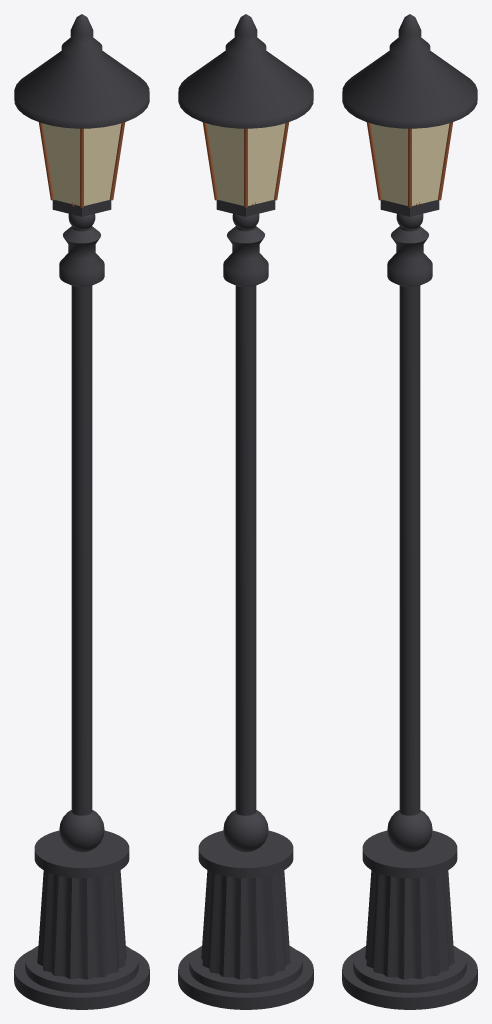
File: farola.obj
The picture shows the model from 3 angles, left to right: view 1: azimuth 30°, elevation 25°; view 2: azimuth 150°, elevation 25°; view 3: azimuth 330°, elevation 25°; orthographic projection.
Parts seen in each view (by area): view 1: Poste, Linterna_Techo, Base_Columna_Acanalada, Base_Plinto, Linterna_Vidrio, Base_Remate, Collar, Bola_Inferior, Linterna_Base, Bola_Cuello, Linterna_Marco_1; view 2: Poste, Linterna_Techo, Base_Columna_Acanalada, Base_Plinto, Linterna_Vidrio, Base_Remate, Collar, Bola_Inferior, Linterna_Base, Bola_Cuello, Linterna_Marco_5; view 3: Poste, Linterna_Techo, Base_Columna_Acanalada, Base_Plinto, Linterna_Vidrio, Base_Remate, Collar, Bola_Inferior, Linterna_Base, Bola_Cuello, Linterna_Marco_2.
Boxes of the visible parts, x1=… form: Poste: x1=71, y1=285, x2=92, y2=815; Linterna_Techo: x1=14, y1=14, x2=149, y2=128; Base_Columna_Acanalada: x1=37, y1=870, x2=126, y2=979; Base_Plinto: x1=14, y1=946, x2=149, y2=1009; Linterna_Vidrio: x1=42, y1=123, x2=121, y2=205; Base_Remate: x1=34, y1=830, x2=129, y2=878; Collar: x1=59, y1=226, x2=104, y2=286; Bola_Inferior: x1=59, y1=810, x2=104, y2=852; Linterna_Base: x1=52, y1=200, x2=111, y2=216; Bola_Cuello: x1=68, y1=213, x2=95, y2=229; Linterna_Marco_1: x1=109, y1=122, x2=125, y2=200; Poste: x1=235, y1=285, x2=256, y2=815; Linterna_Techo: x1=178, y1=14, x2=313, y2=128; Base_Columna_Acanalada: x1=201, y1=870, x2=290, y2=979; Base_Plinto: x1=178, y1=946, x2=313, y2=1009; Linterna_Vidrio: x1=206, y1=123, x2=285, y2=205; Base_Remate: x1=198, y1=830, x2=293, y2=878; Collar: x1=223, y1=226, x2=268, y2=286; Bola_Inferior: x1=223, y1=810, x2=268, y2=852; Linterna_Base: x1=216, y1=200, x2=275, y2=216; Bola_Cuello: x1=232, y1=213, x2=259, y2=229; Linterna_Marco_5: x1=202, y1=122, x2=218, y2=200; Poste: x1=399, y1=285, x2=420, y2=815; Linterna_Techo: x1=342, y1=14, x2=477, y2=128; Base_Columna_Acanalada: x1=365, y1=870, x2=454, y2=979; Base_Plinto: x1=342, y1=946, x2=477, y2=1009; Linterna_Vidrio: x1=370, y1=123, x2=449, y2=205; Base_Remate: x1=362, y1=830, x2=457, y2=878; Collar: x1=387, y1=226, x2=432, y2=286; Bola_Inferior: x1=387, y1=810, x2=432, y2=852; Linterna_Base: x1=380, y1=200, x2=439, y2=216; Bola_Cuello: x1=396, y1=213, x2=423, y2=229; Linterna_Marco_2: x1=366, y1=122, x2=382, y2=200.
Size of the model in its own units: 0.6 by 4.72 by 0.6.
Materials: 4 (4 with a texture image).
